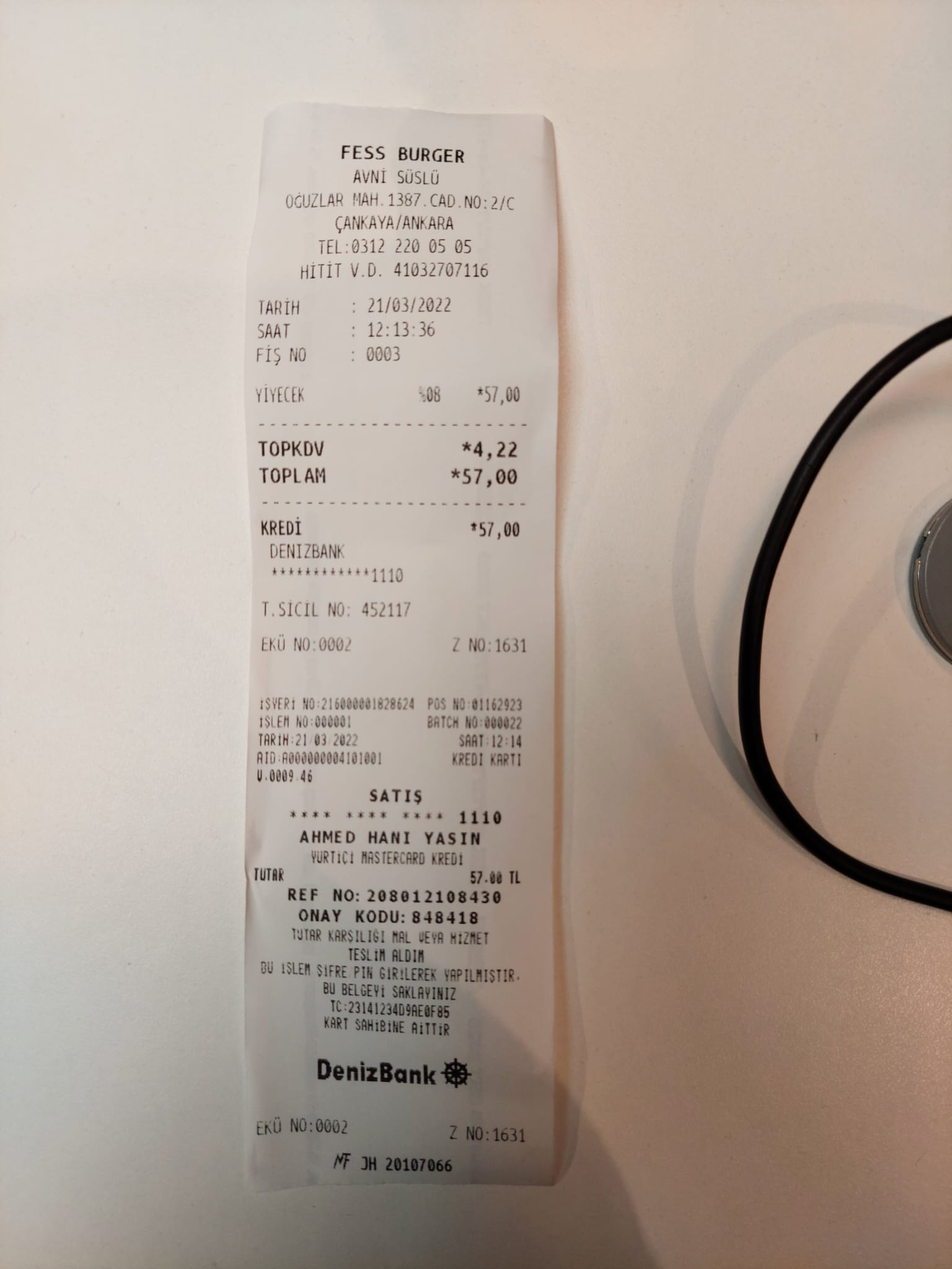date: (361, 290, 457, 317)
price: (460, 461, 529, 491)
workplace: (280, 138, 528, 234)
